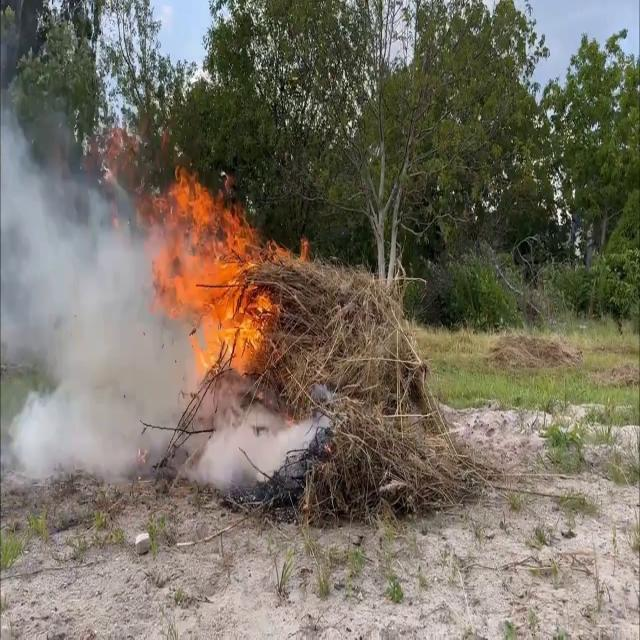Fire: (146, 165, 286, 387)
Smoke: (0, 52, 187, 496), (198, 378, 310, 496)
